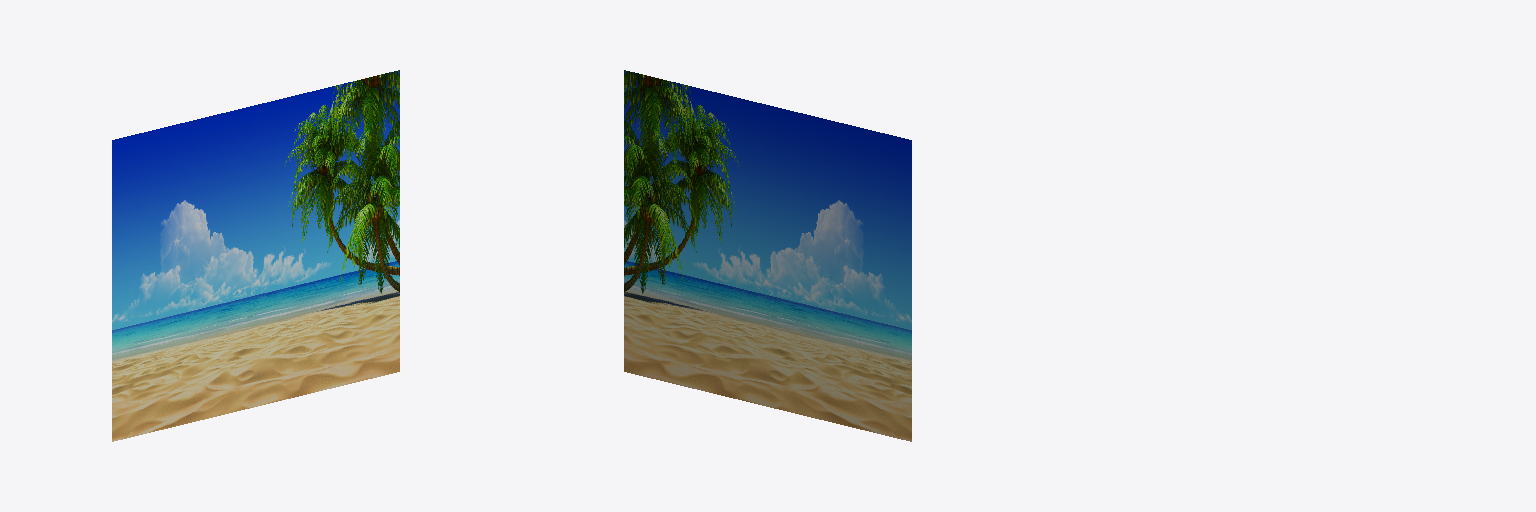
The picture shows the model from 3 angles: view 1: azimuth 30°, elevation 25°; view 2: azimuth 150°, elevation 25°; view 3: azimuth 270°, elevation 25°; orthographic projection.
Visible parts, largest first — view 1: CinderblockSloppy0005_1_S; view 2: CinderblockSloppy0005_1_S; view 3: none.
Part boxes in pixels (x1,y1,x2,y2): CinderblockSloppy0005_1_S: (112,70,399,441); CinderblockSloppy0005_1_S: (624,70,911,441).
Size of the model in its own units: 4 by 4 by 0.
Materials: 1 (1 with a texture image).